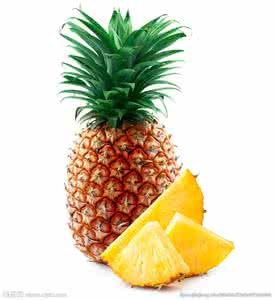pineapple: (62, 4, 188, 272)
